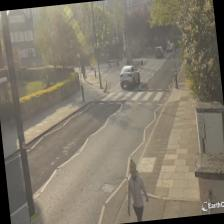person: (122, 158, 150, 222)
